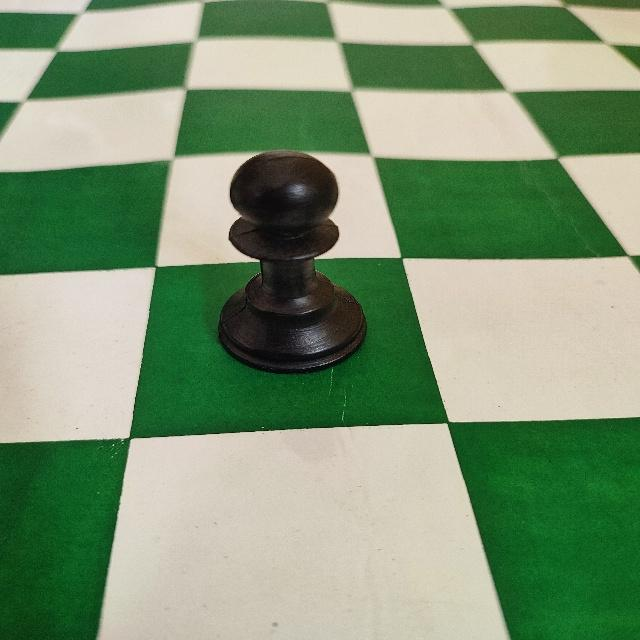Pawn: (216, 146, 371, 378)
